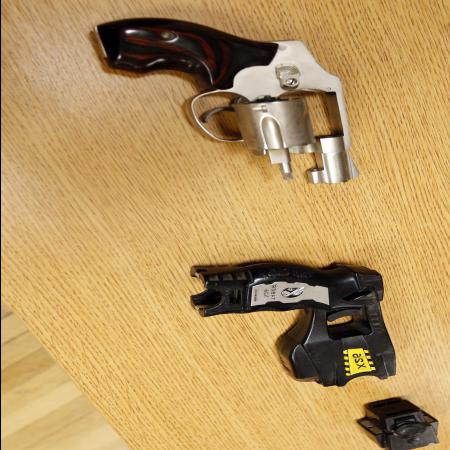Pistol: (67, 14, 374, 184)
